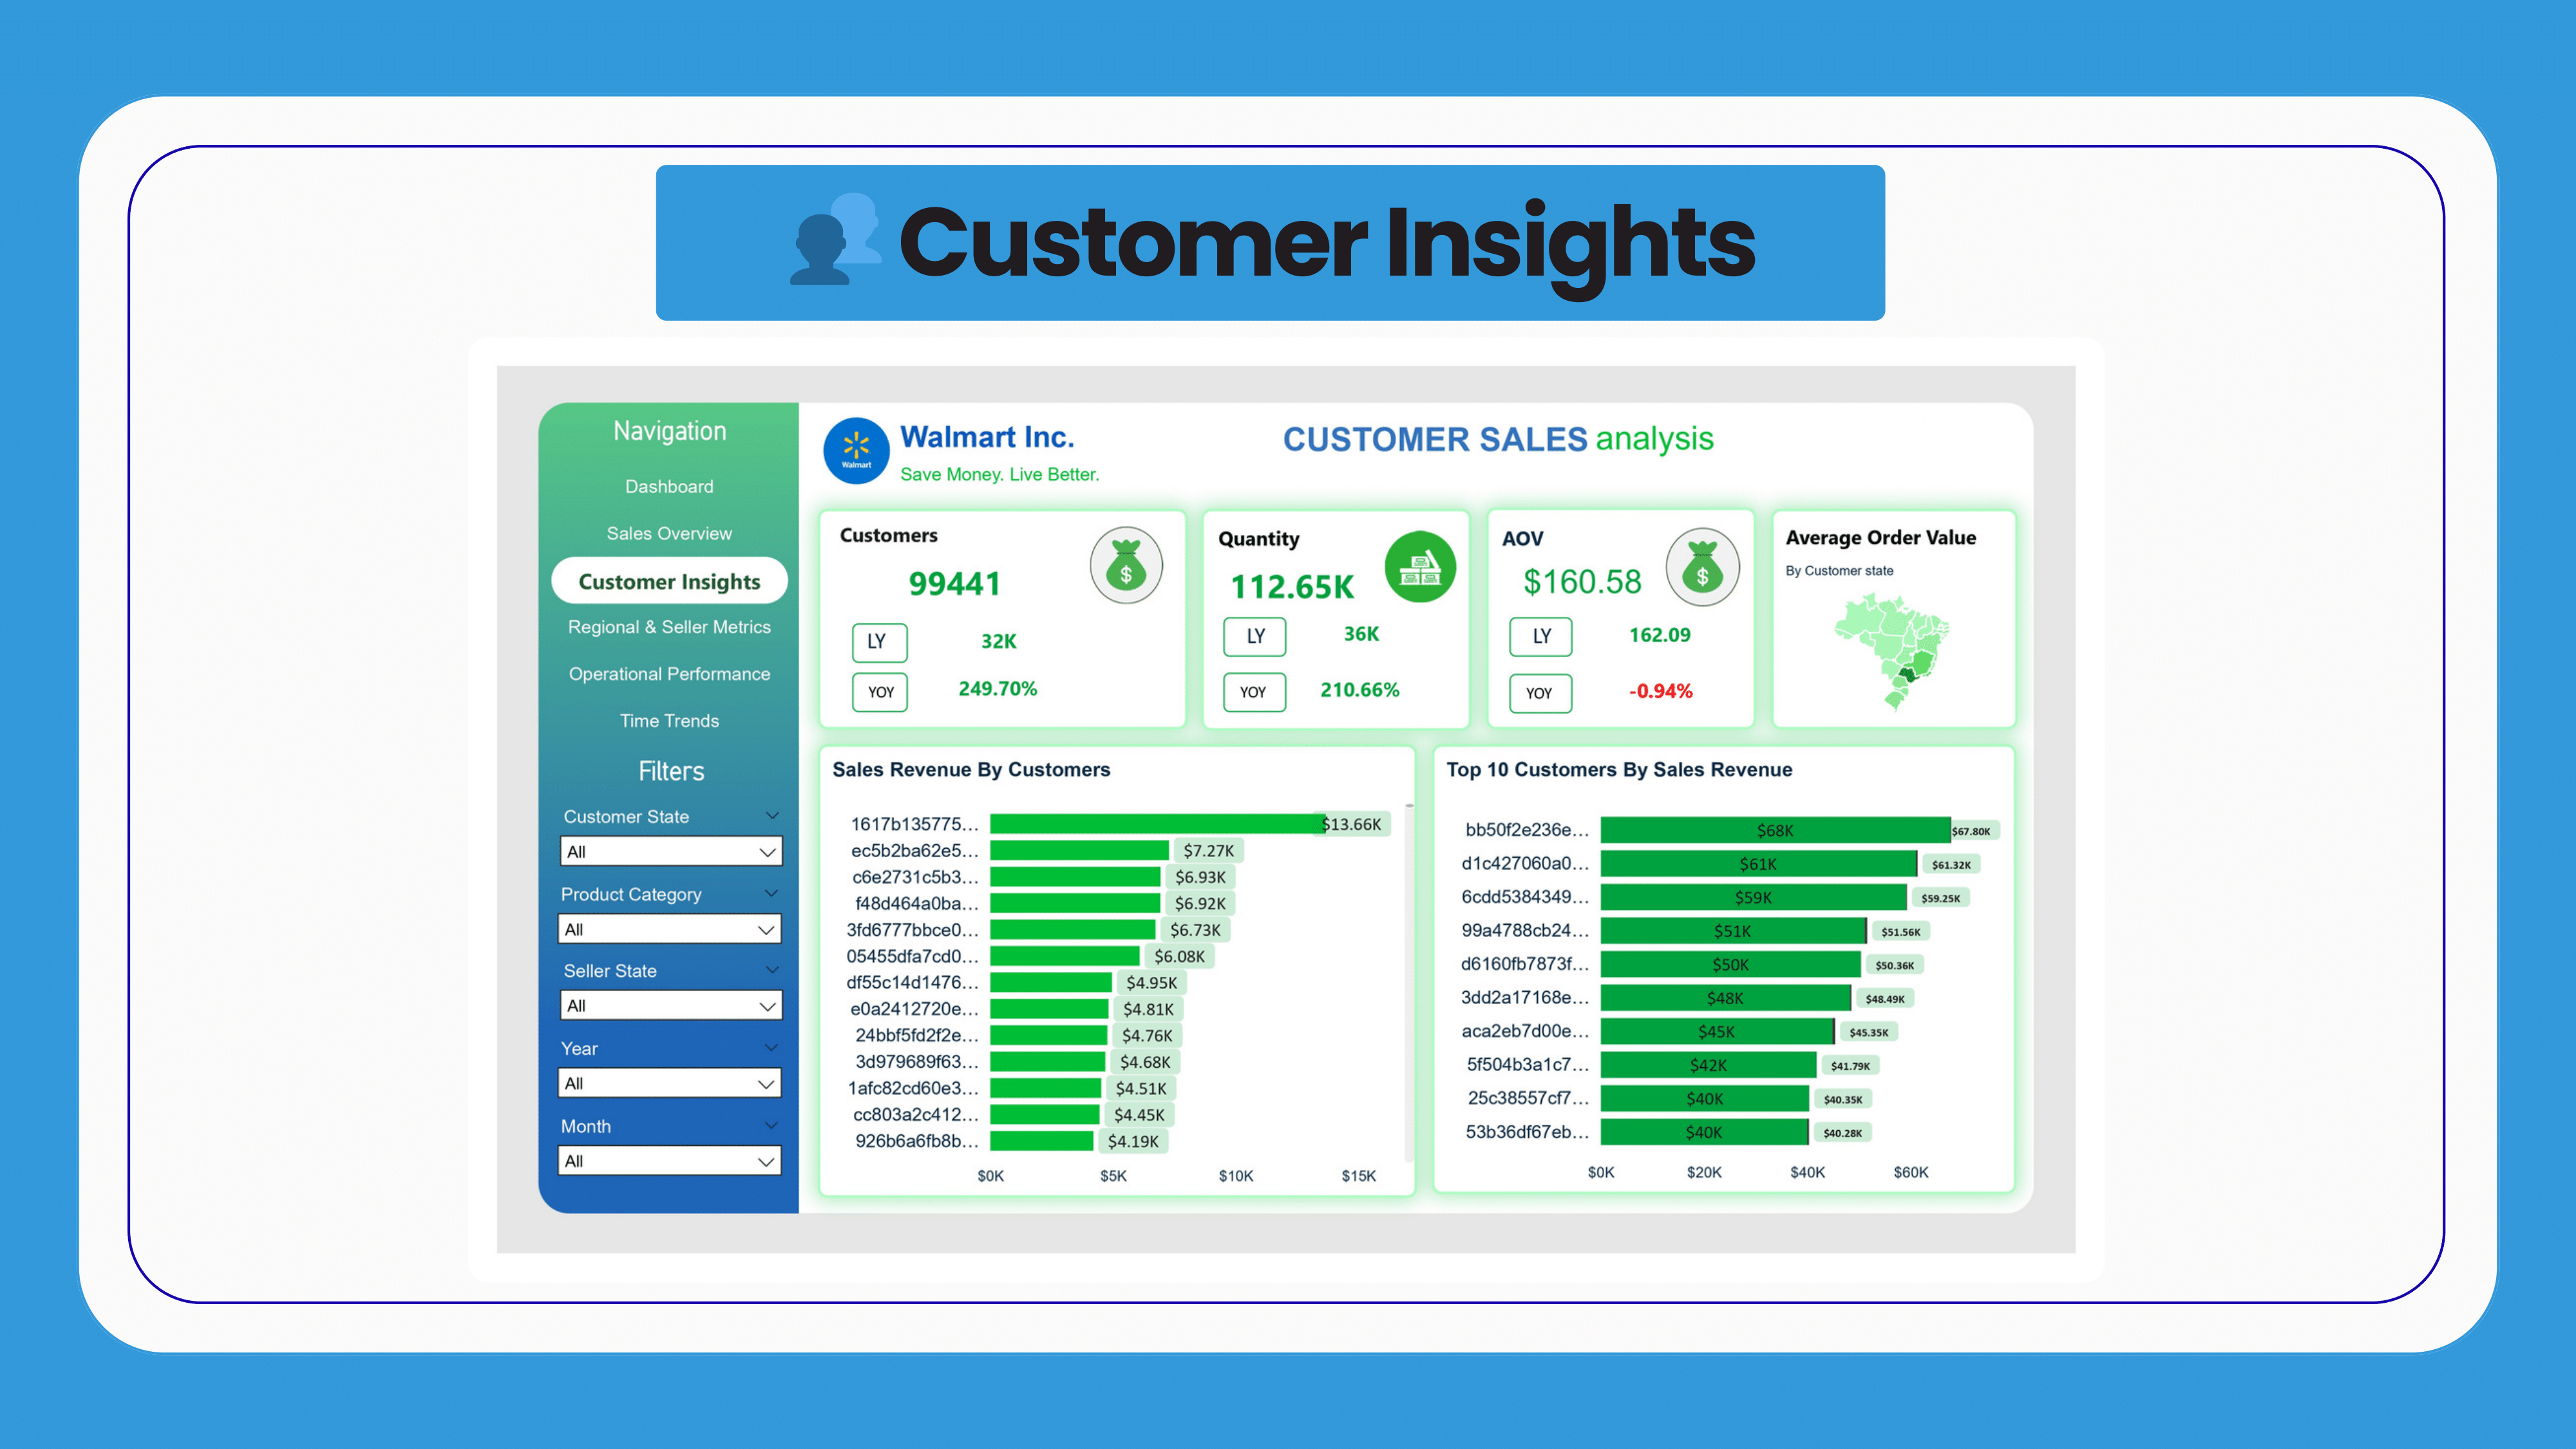

What the dashboard file says about the page in this screenshot:
{"tool":"powerbi","page":{"name":"Page 4","canvas":[1280,720],"ordinal":11},"visuals":[{"type":"textbox","box":[250.8,27,779.4,48.5],"z":0},{"type":"pivotTable","title":"Revenue by customers","fields":{"Rows":["customers.customer_id"],"Values":["_Measures.Total Sales Revenue"]},"box":[31.2,76.2,485,381.2],"z":1000},{"type":"textbox","box":[552.5,76.2,588.8,77.5],"z":2000},{"type":"pivotTable","title":"Top 10 Loyal Customers","fields":{"Rows":["customers.customer_id"],"Values":["_Measures.Total Sales Revenue","_Measures.Number of orders"]},"box":[551.9,153.9,630.1,303],"z":3000},{"type":"textbox","box":[31.2,476.2,1110,48.8],"z":4000},{"type":"pivotTable","fields":{"Rows":["customers.customer_id"],"Values":["_Measures.CLV"]},"box":[31.3,513.5,411.3,197.2],"z":5000}]}

Visuals, with their boxes in screenshot pixels (x1, y1, x2, y2), scaled from the page's 1280x720 canvas onto the 2576x1449 screenshot:
textbox: bbox=[505, 54, 2073, 152]
"Revenue by customers" pivotTable: bbox=[63, 153, 1039, 920]
textbox: bbox=[1112, 153, 2297, 309]
"Top 10 Loyal Customers" pivotTable: bbox=[1111, 310, 2379, 920]
textbox: bbox=[63, 958, 2297, 1057]
pivotTable - customers.customer_id x _Measures.CLV: bbox=[63, 1034, 891, 1430]
